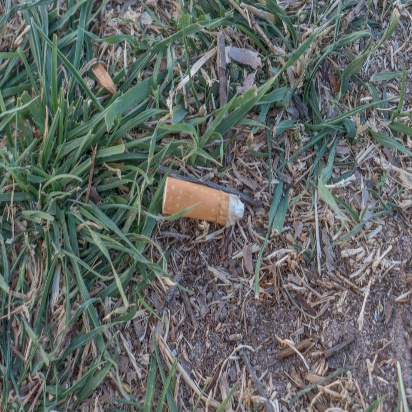cigarette: (153, 172, 256, 232)
